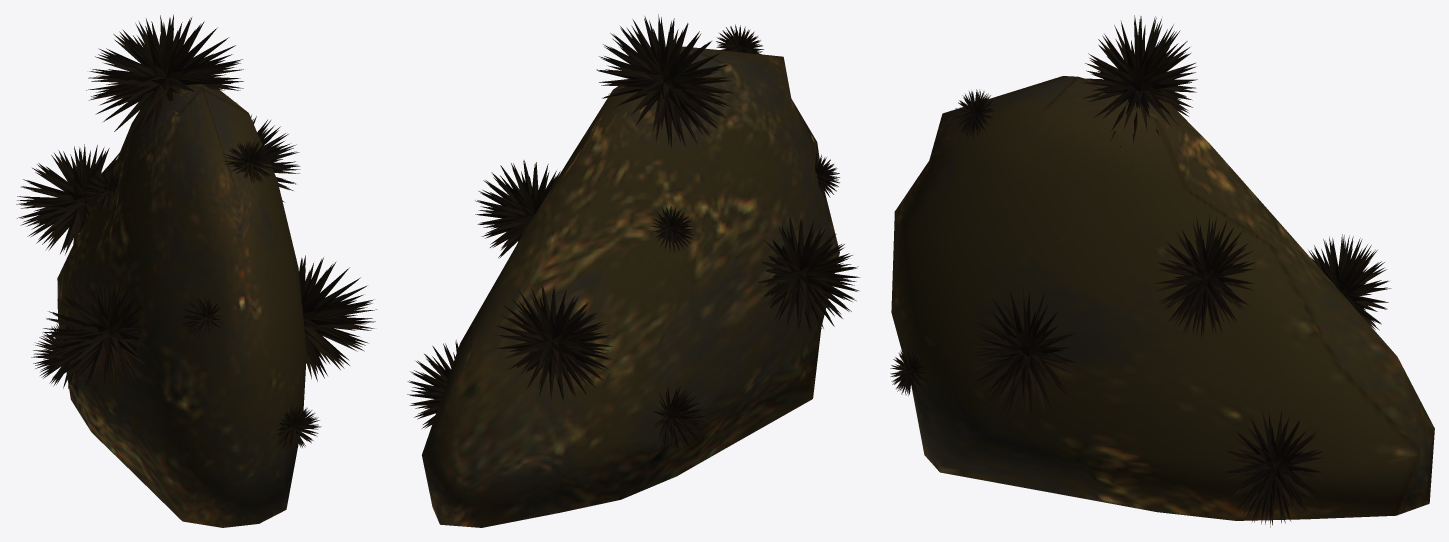
Rendered from Scoglio_Medio.FBX.
3 views of the same model, side by side, from view 1: azimuth 30°, elevation 25°; view 2: azimuth 150°, elevation 25°; view 3: azimuth 270°, elevation 25° (orthographic). The views are drawn at different scales.
Parts seen in each view (by area): view 1: Object005; view 2: Object005; view 3: Object005.
Part boxes in pixels (x1,y1,x2,y2): Object005: [16, 14, 376, 527]; Object005: [407, 14, 860, 527]; Object005: [890, 15, 1434, 527].
Bounding box in the file's own units: 397 × 460 × 519.
